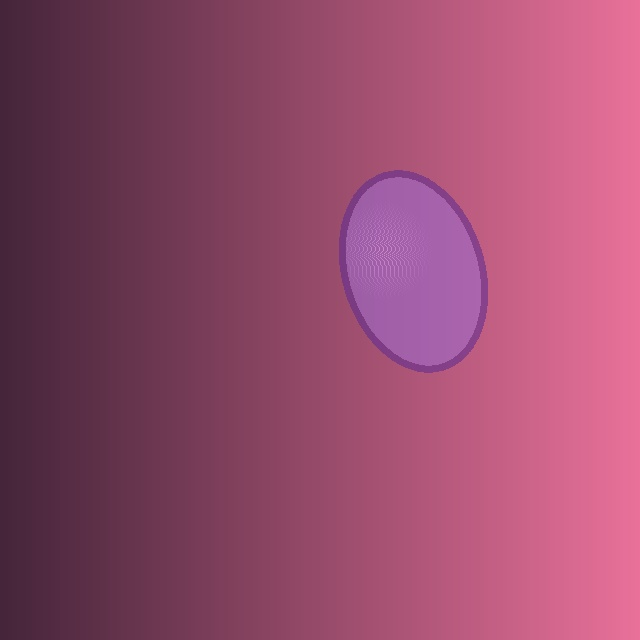lens: (342, 173, 484, 369)
